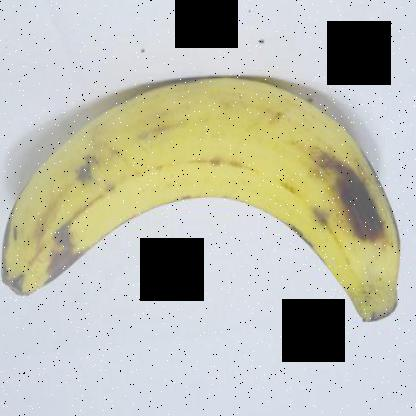ripe: (1, 63, 411, 344)
